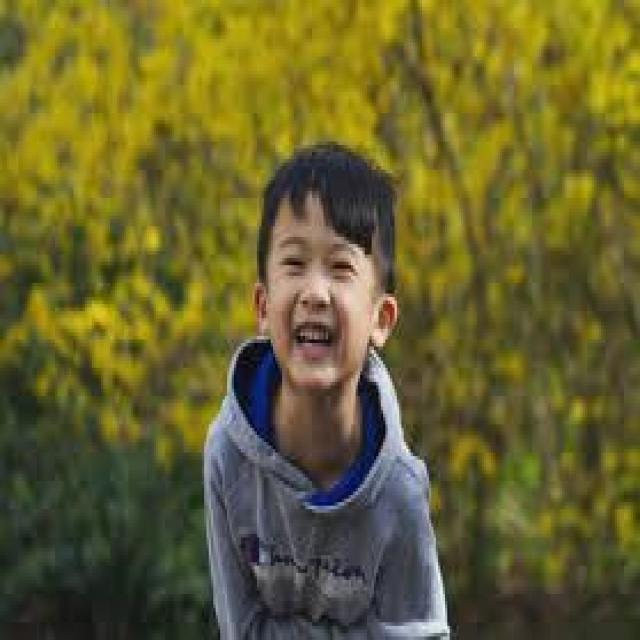person: (204, 109, 443, 636)
